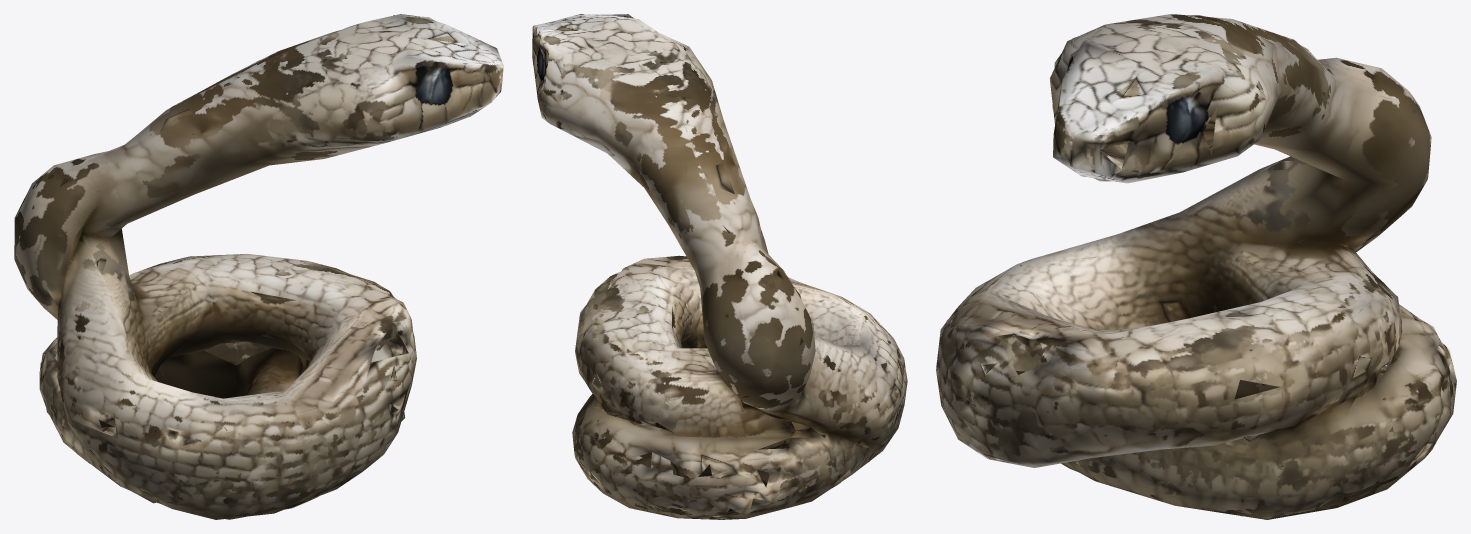
File: sandsnake.glb
3 views of the same model, side by side, from view 1: azimuth 30°, elevation 25°; view 2: azimuth 150°, elevation 25°; view 3: azimuth 270°, elevation 25° (orthographic). The views are drawn at different scales.
Parts seen in each view (by area): view 1: Creature; view 2: Creature; view 3: Creature.
Part boxes in pixels (box(x1,y1,x2,y2)): Creature: box(14, 14, 503, 519); Creature: box(532, 14, 907, 519); Creature: box(936, 14, 1456, 519).
Size of the model in its own units: 1.46 by 1.39 by 1.3.
Materials: 1 (1 with a texture image).
